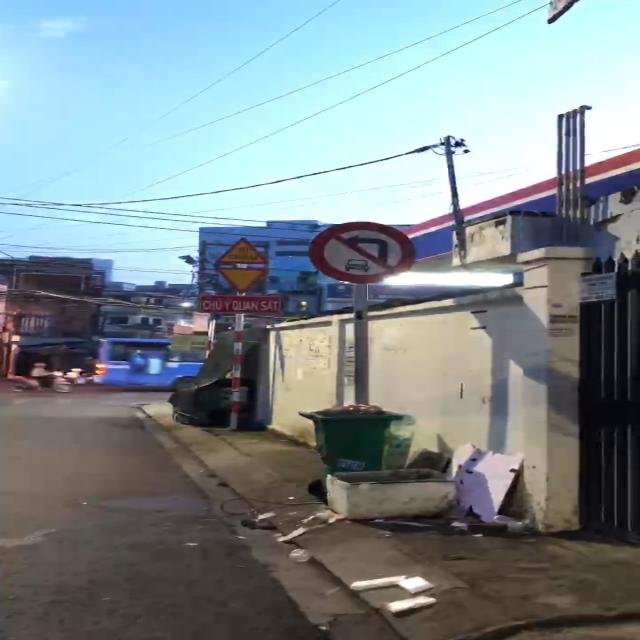Bien bao di cham: (204, 234, 273, 264)
Bien bao giao nhau voi duong uu tien: (210, 264, 276, 298)
